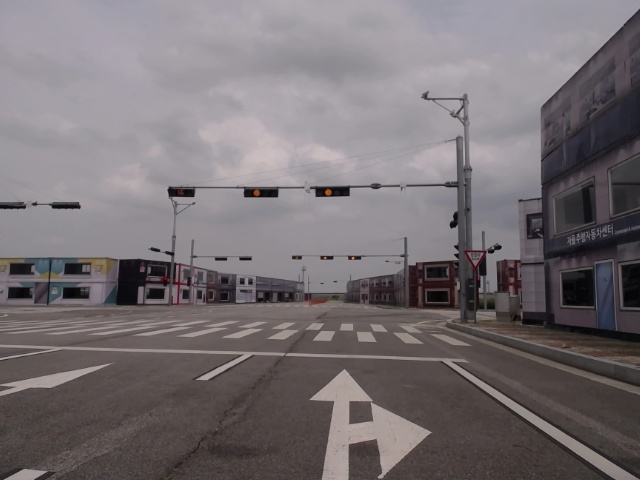orange_4: (242, 186, 280, 200), (313, 185, 351, 197), (319, 255, 336, 262), (348, 254, 362, 262)
